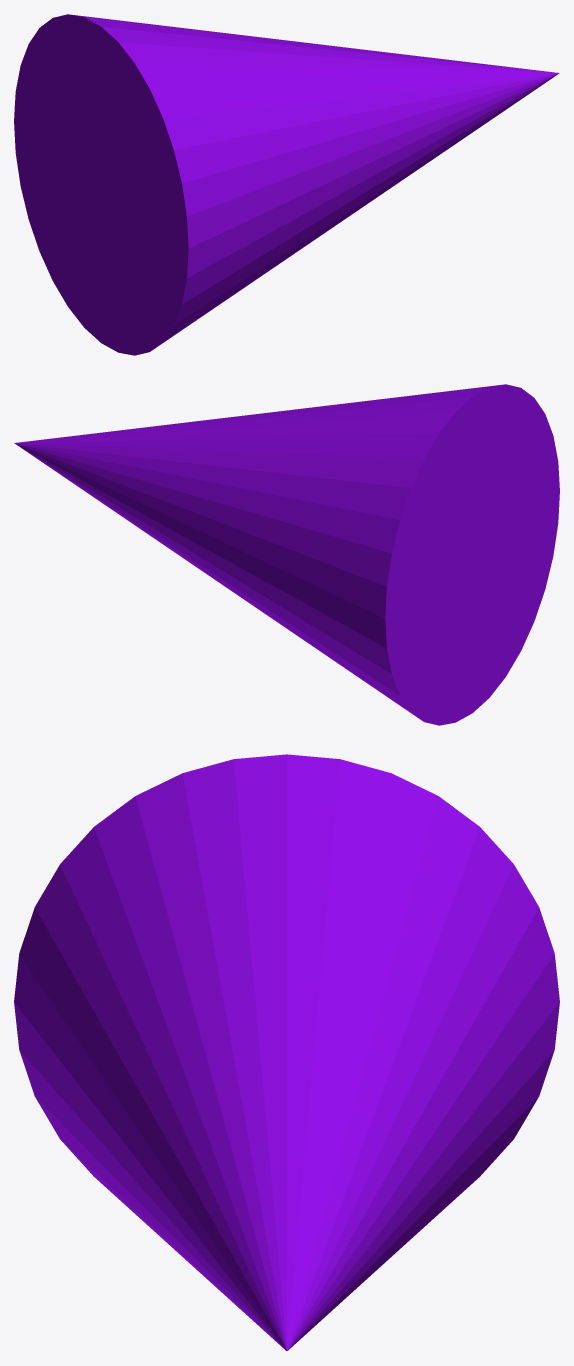
The model's file is arrow.glb.
The picture shows the model from 3 angles, top to bottom: view 1: azimuth 30°, elevation 25°; view 2: azimuth 150°, elevation 25°; view 3: azimuth 270°, elevation 25°; orthographic projection. The views are drawn at different scales.
Parts seen in each view (by area): view 1: Cone; view 2: Cone; view 3: Cone.
Part boxes in pixels (<box>): Cone: <box>14,14,559,355</box>; Cone: <box>14,384,559,725</box>; Cone: <box>14,754,559,1350</box>.
Size of the model in its own units: 0.1574 by 0.1038 by 0.1038.
